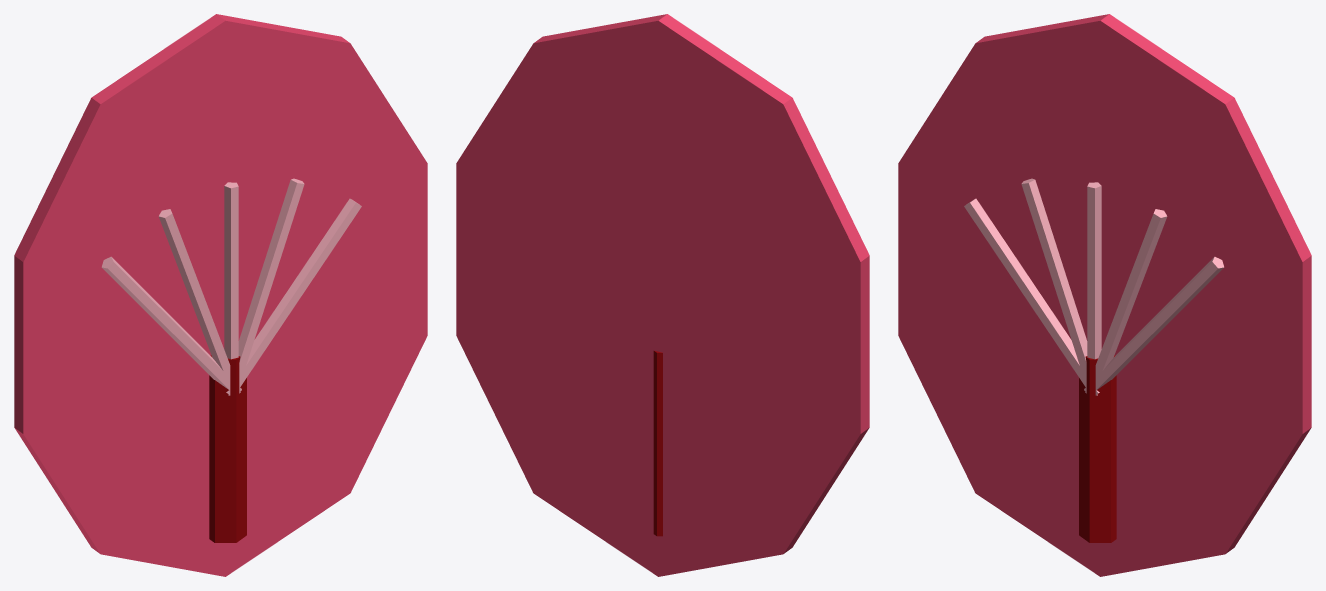
Rendered from coral-fan.glb.
The picture shows the model from 3 angles, left to right: view 1: azimuth 30°, elevation 25°; view 2: azimuth 150°, elevation 25°; view 3: azimuth 330°, elevation 25°; orthographic projection.
Visible parts, largest first — view 1: coral-fan; view 2: coral-fan; view 3: coral-fan.
Boxes of the visible parts, x1,y1,x2,y2 form: coral-fan: (14, 14, 427, 576); coral-fan: (456, 14, 869, 576); coral-fan: (898, 14, 1311, 576).
Bounding box in the file's own units: 1.52 × 2 × 0.14.
